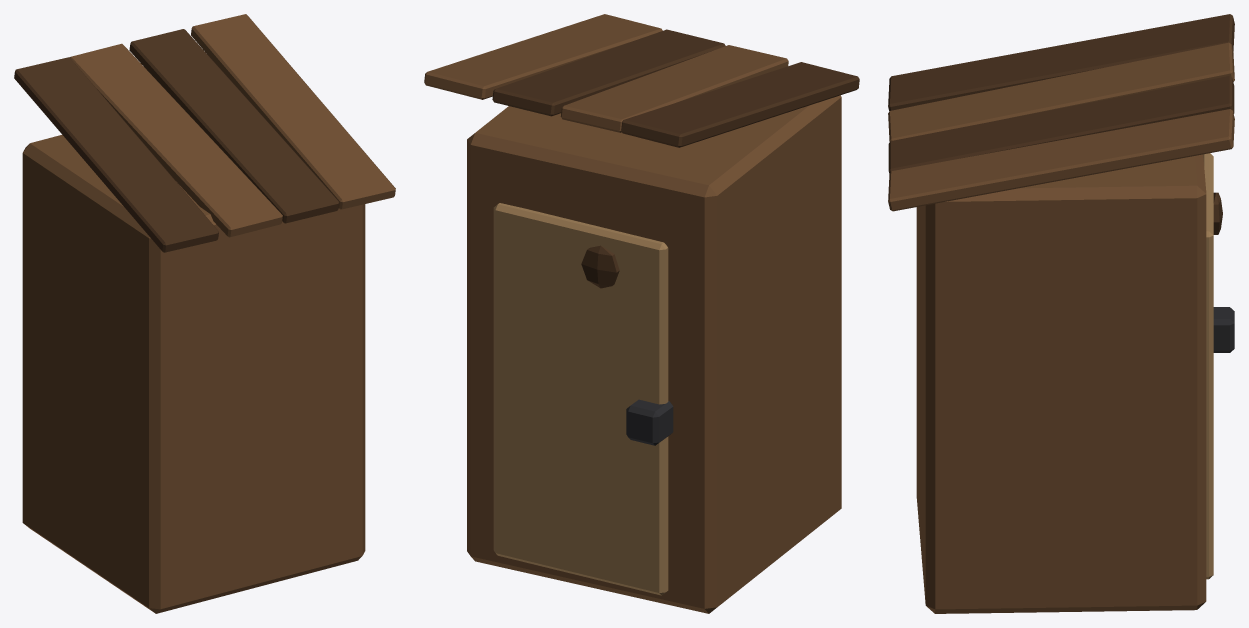
File: outhouse.fbx
3 renders of one model, left to right at view 1: azimuth 30°, elevation 25°; view 2: azimuth 150°, elevation 25°; view 3: azimuth 270°, elevation 25°, orthographic. The views are drawn at different scales.
Visible parts, largest first — view 1: Building; view 2: Building; view 3: Building.
Part boxes in pixels (x1,y1,x2,y2): Building: [14, 14, 395, 613]; Building: [424, 14, 859, 613]; Building: [888, 14, 1234, 613].
Size of the model in its own units: 0.6622 by 0.7405 by 1.15.
